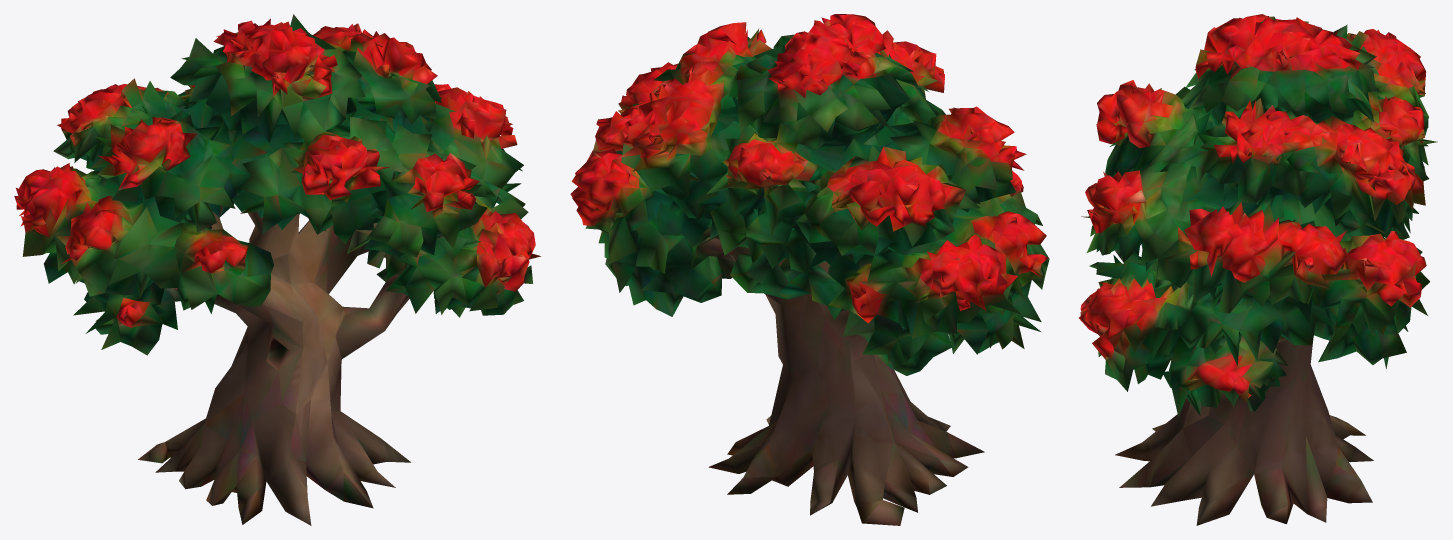
The model's file is pohutukawa.glb.
3 views of the same model, side by side, from view 1: azimuth 30°, elevation 25°; view 2: azimuth 150°, elevation 25°; view 3: azimuth 270°, elevation 25° (orthographic). The views are drawn at different scales.
Parts seen in each view (by area): view 1: model; view 2: model; view 3: model.
Part boxes in pixels (<box>): model: <box>14,14,540,525</box>; model: <box>570,14,1049,525</box>; model: <box>1079,14,1437,525</box>.
Size of the model in its own units: 1.92 by 1.78 by 1.27.
1 material, 1 textured.
